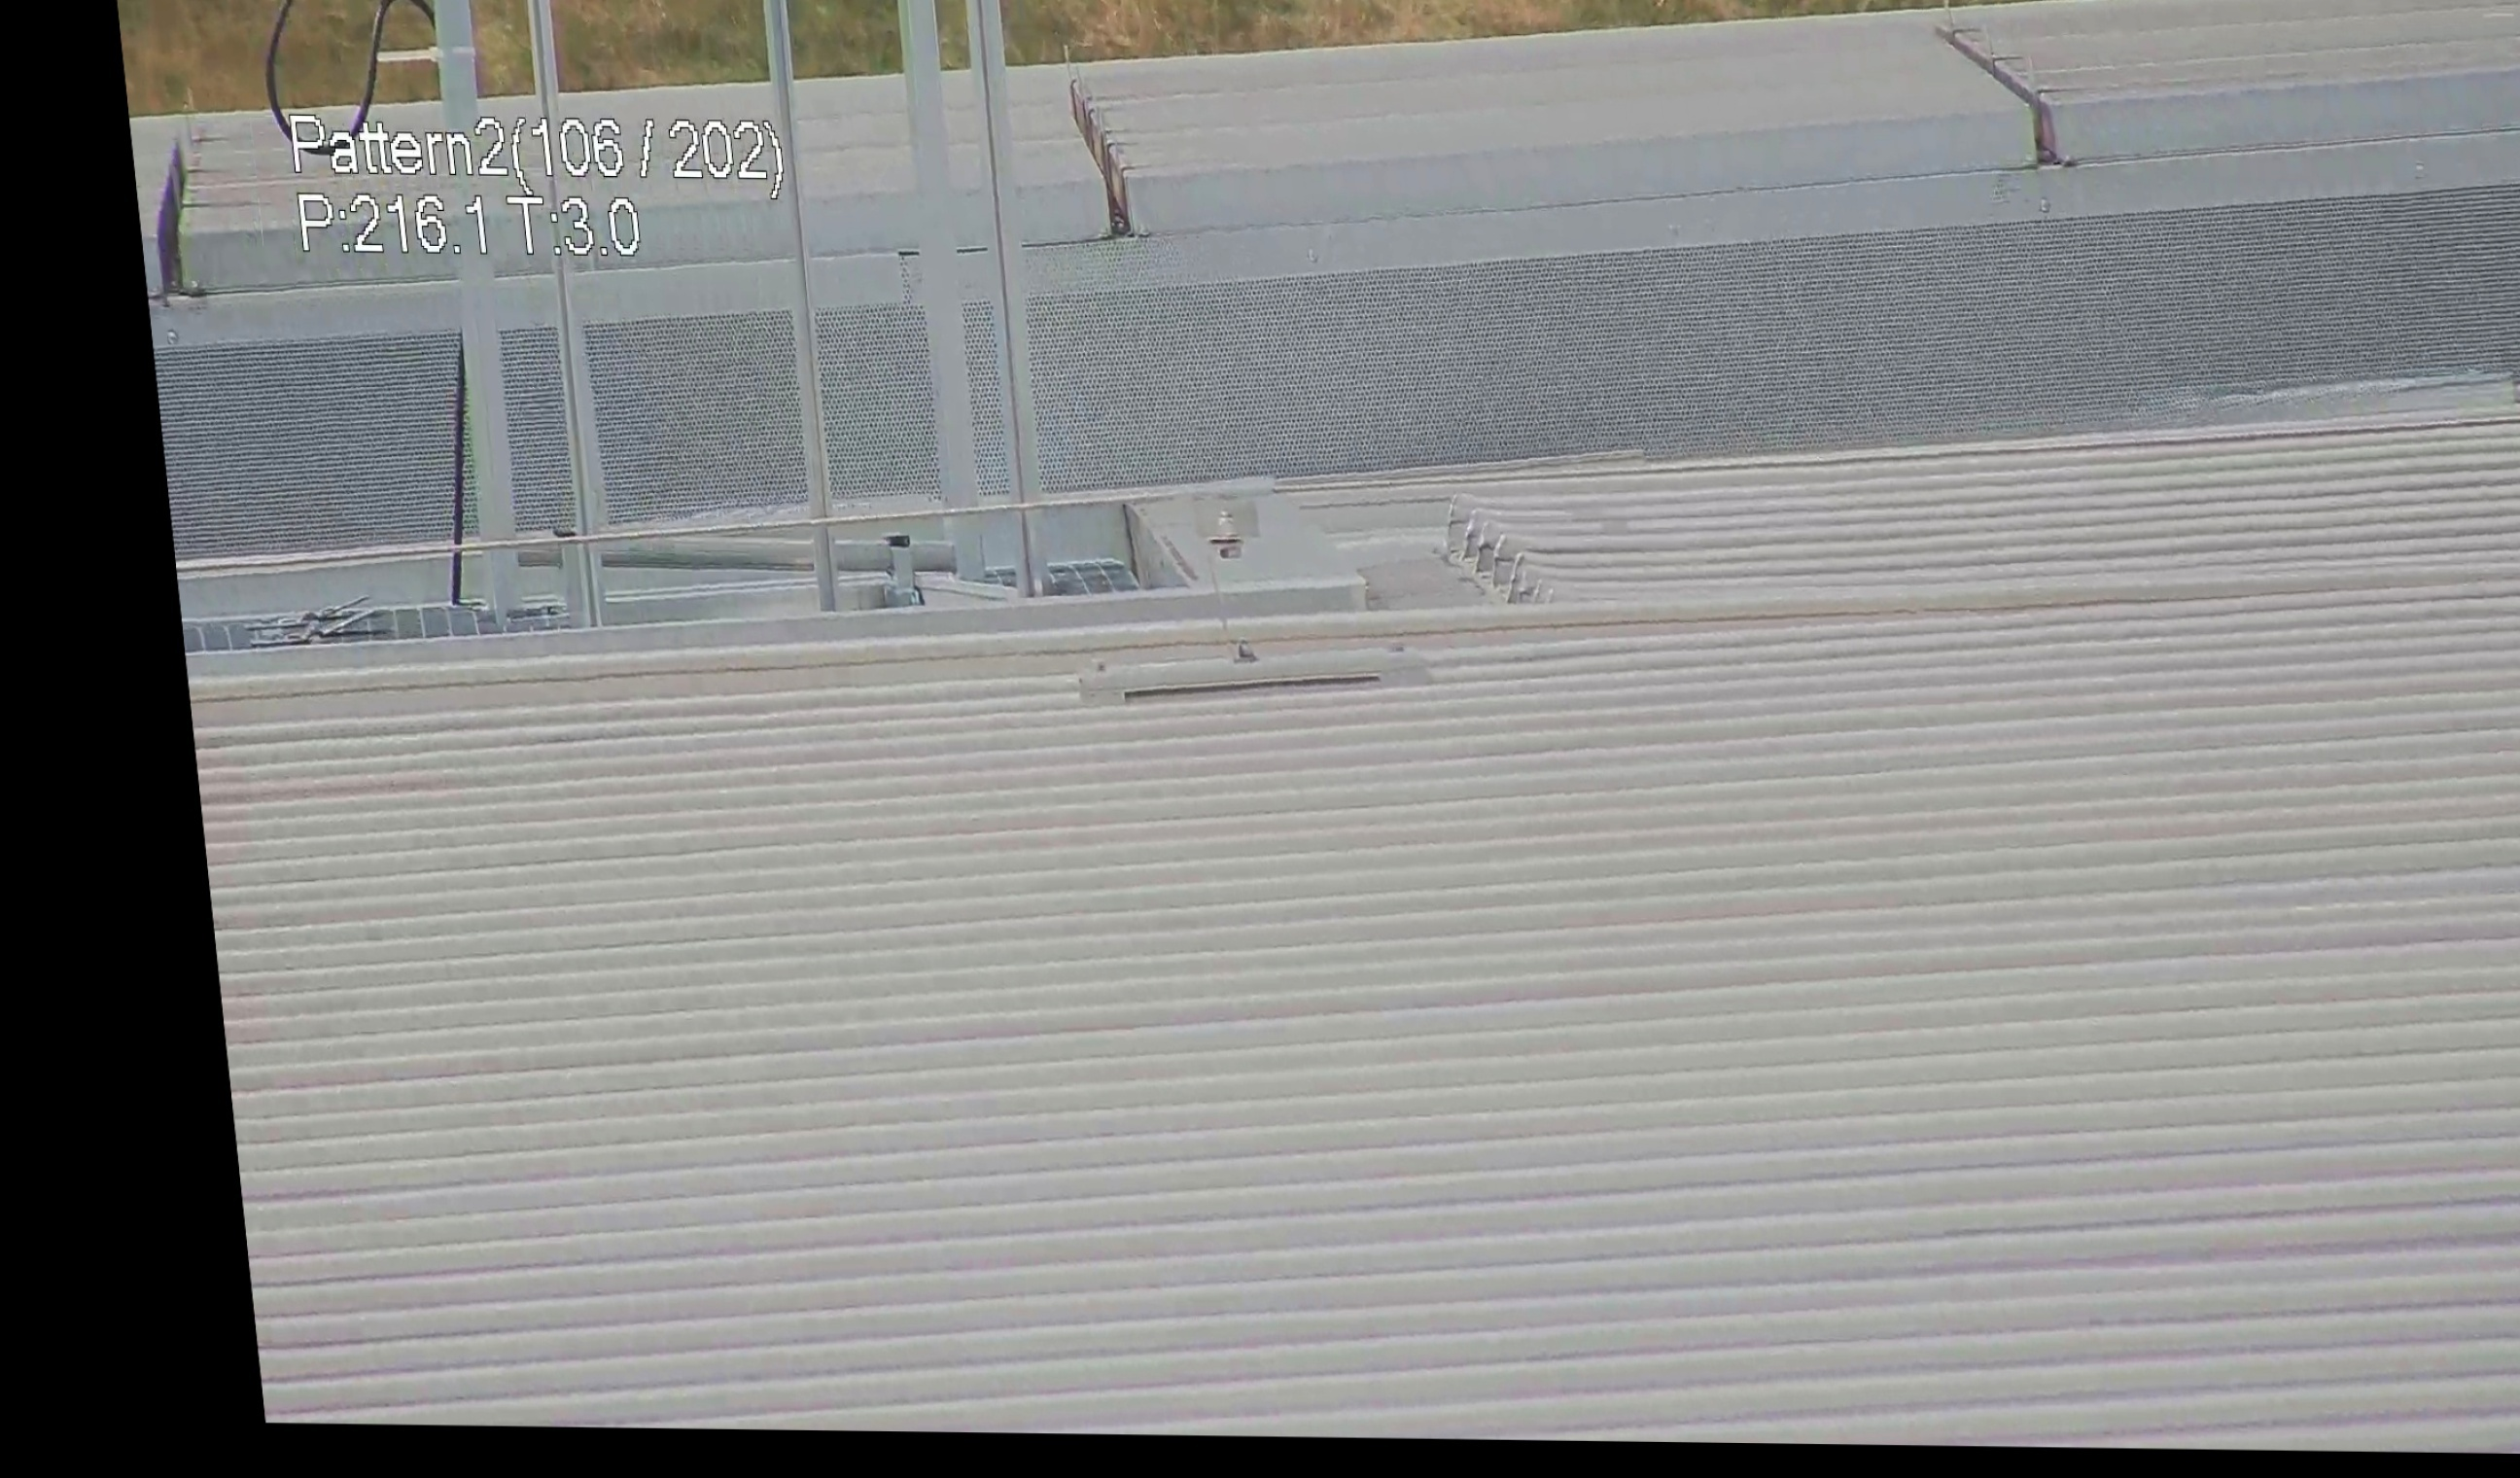Other: (1046, 44, 1161, 241)
